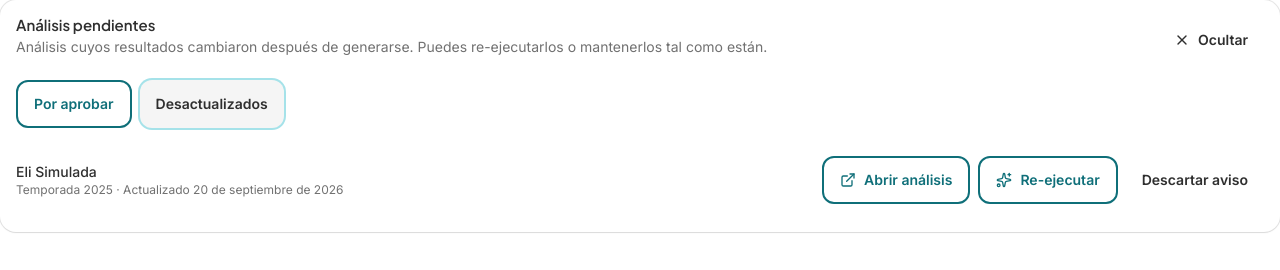
Test case: PendingAnalysesPanel — re-ejecutar resumen de temporada › un fallo sin detalle usa un mensaje genérico en español
Click the button with aria-label "Re-ejecutar el resumen de temporada de Eli Simulada" at point(1048, 180), box [978,156,1118,204]
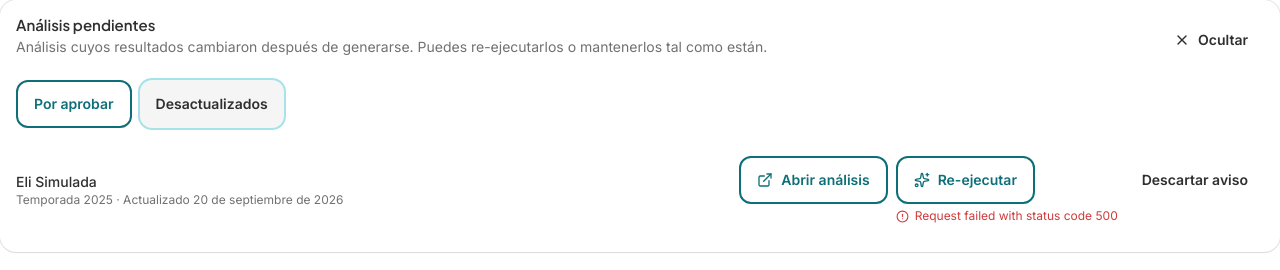
Expected: the message "Request failed with status code 500" is shown, [896,208,1118,224]
